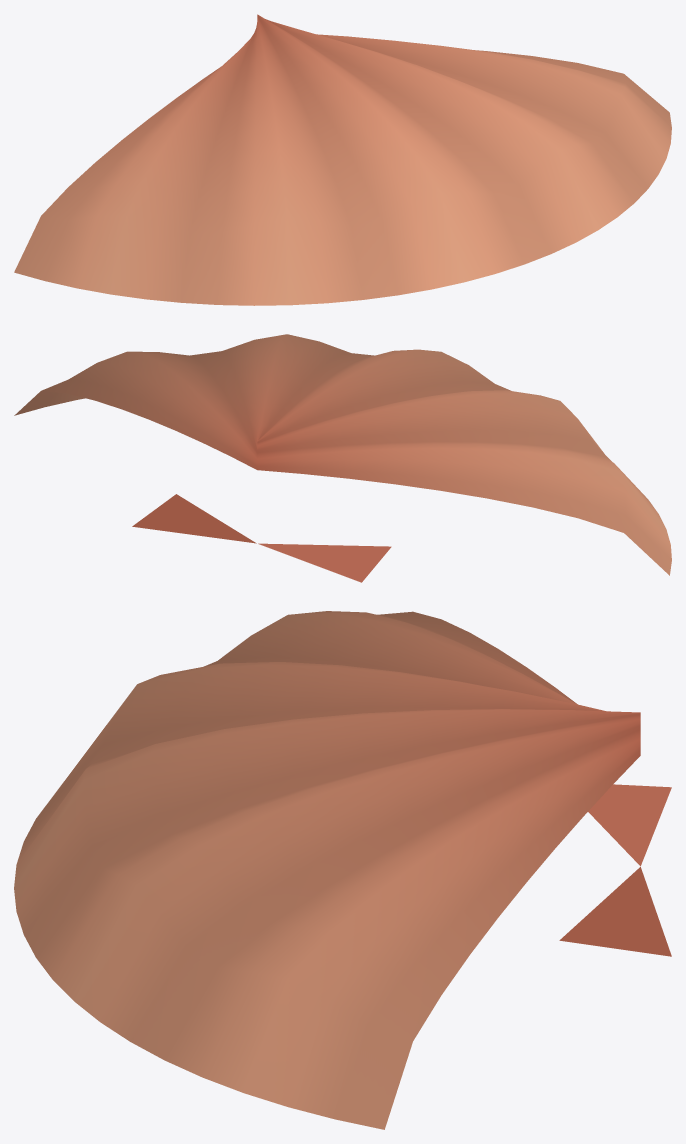
File: item_shell_scallop.glb
3 views of the same model, one above another, from view 1: azimuth 30°, elevation 25°; view 2: azimuth 150°, elevation 25°; view 3: azimuth 270°, elevation 25° (orthographic). The views are drawn at different scales.
Visible parts, largest first — view 1: item_shell_scallop_main; view 2: item_shell_scallop_main; view 3: item_shell_scallop_main.
Part boxes in pixels (left/top/right/bottom): item_shell_scallop_main: left=14, top=14, right=671, bottom=305; item_shell_scallop_main: left=14, top=334, right=671, bottom=582; item_shell_scallop_main: left=14, top=611, right=671, bottom=1129.
Size of the model in its own units: 0.3834 by 0.066 by 0.2205.
